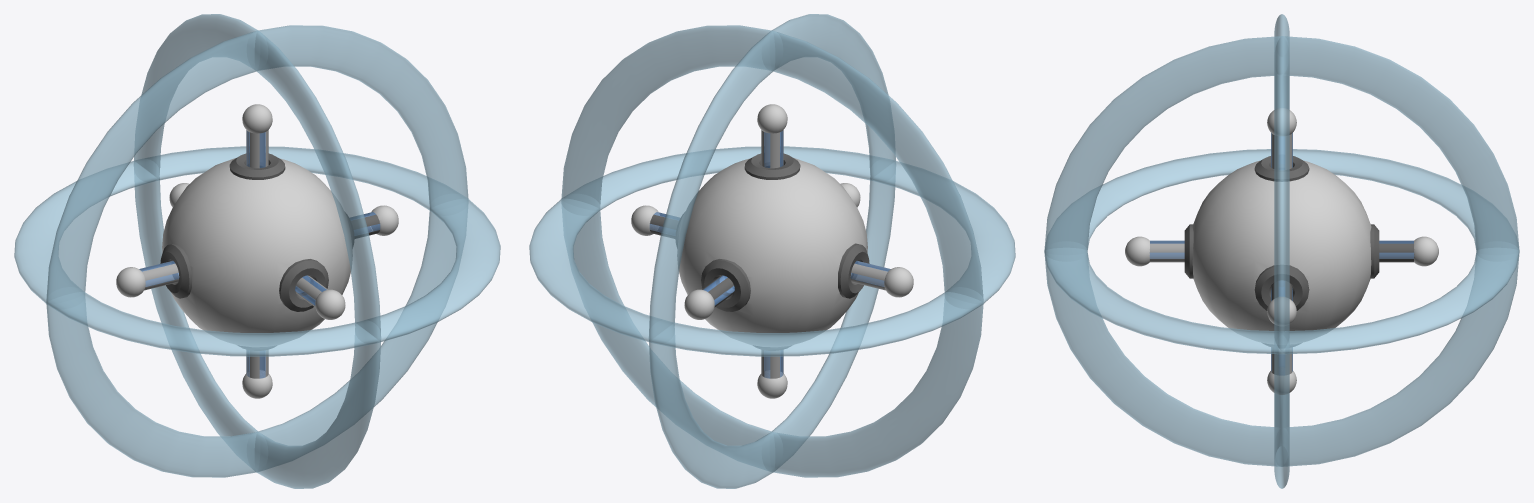
File: core.fbx
The picture shows the model from 3 angles, left to right: view 1: azimuth 30°, elevation 25°; view 2: azimuth 150°, elevation 25°; view 3: azimuth 270°, elevation 25°; orthographic projection. The views are drawn at different scales.
Visible parts, largest first — view 1: pTorus10, pTorus9, pTorus8, polySurface26, polySurface28, polySurface38, polySurface41, polySurface36, polySurface34, polySurface32, polySurface25, polySurface23; view 2: pTorus10, pTorus9, pTorus8, polySurface26, polySurface24, polySurface38, polySurface41, polySurface30, polySurface34, polySurface32, polySurface25, polySurface23; view 3: pTorus9, pTorus8, polySurface26, pTorus10, polySurface27, polySurface30, polySurface36, polySurface38, polySurface32, polySurface34, polySurface23.
Part boxes in pixels (bbox=[...]): pTorus10: bbox=[46, 25, 468, 477]; pTorus9: bbox=[134, 14, 380, 488]; pTorus8: bbox=[14, 146, 500, 356]; polySurface26: bbox=[162, 158, 352, 346]; polySurface28: bbox=[279, 259, 328, 311]; polySurface38: bbox=[242, 104, 272, 168]; polySurface41: bbox=[116, 261, 179, 297]; polySurface36: bbox=[295, 275, 345, 319]; polySurface34: bbox=[242, 350, 272, 398]; polySurface32: bbox=[350, 205, 398, 238]; polySurface25: bbox=[160, 243, 191, 298]; polySurface23: bbox=[229, 153, 285, 179]; pTorus10: bbox=[561, 25, 983, 477]; pTorus9: bbox=[649, 14, 895, 488]; pTorus8: bbox=[529, 146, 1015, 356]; polySurface26: bbox=[677, 158, 867, 346]; polySurface24: bbox=[701, 259, 750, 311]; polySurface38: bbox=[757, 104, 787, 168]; polySurface41: bbox=[850, 261, 913, 297]; polySurface30: bbox=[684, 275, 734, 319]; polySurface34: bbox=[757, 350, 787, 398]; polySurface32: bbox=[631, 205, 679, 238]; polySurface25: bbox=[838, 243, 869, 298]; polySurface23: bbox=[744, 153, 800, 179]; pTorus9: bbox=[1044, 36, 1519, 466]; pTorus8: bbox=[1044, 149, 1519, 354]; polySurface26: bbox=[1192, 160, 1371, 344]; pTorus10: bbox=[1274, 14, 1289, 488]; polySurface27: bbox=[1254, 265, 1309, 310]; polySurface30: bbox=[1379, 236, 1438, 266]; polySurface36: bbox=[1125, 236, 1184, 266]; polySurface38: bbox=[1267, 108, 1296, 169]; polySurface32: bbox=[1267, 281, 1296, 325]; polySurface34: bbox=[1267, 347, 1296, 394]; polySurface23: bbox=[1254, 156, 1309, 181].
Size of the model in its own units: 18.31 by 18.31 by 18.31.
